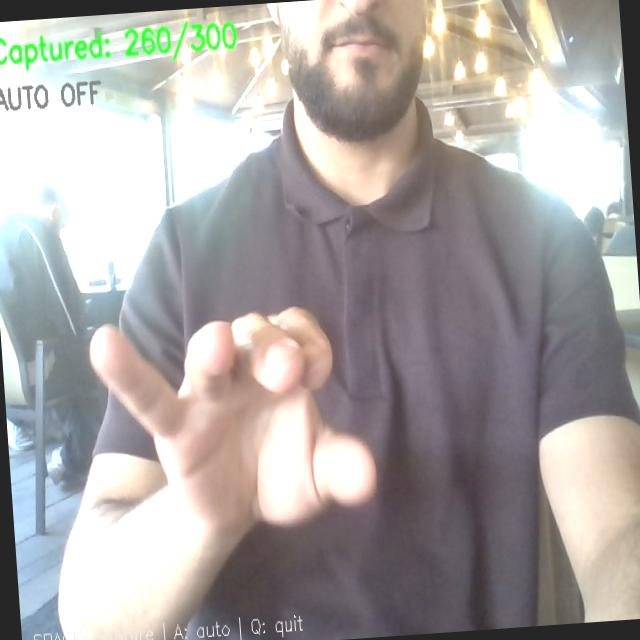Hand: (91, 309, 375, 534)
